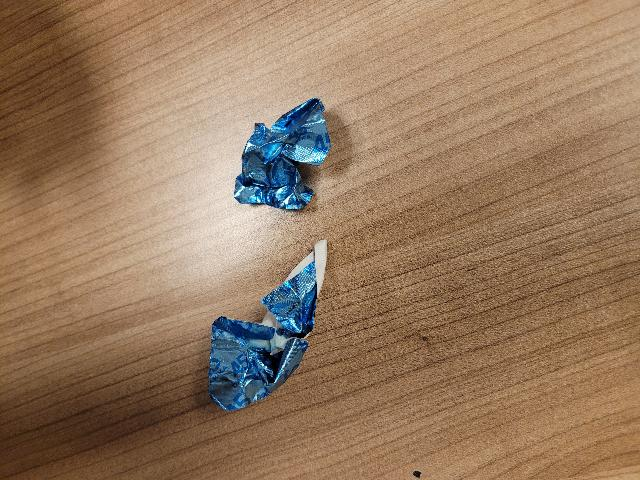Kagit: (200, 233, 340, 414), (231, 90, 337, 220)
